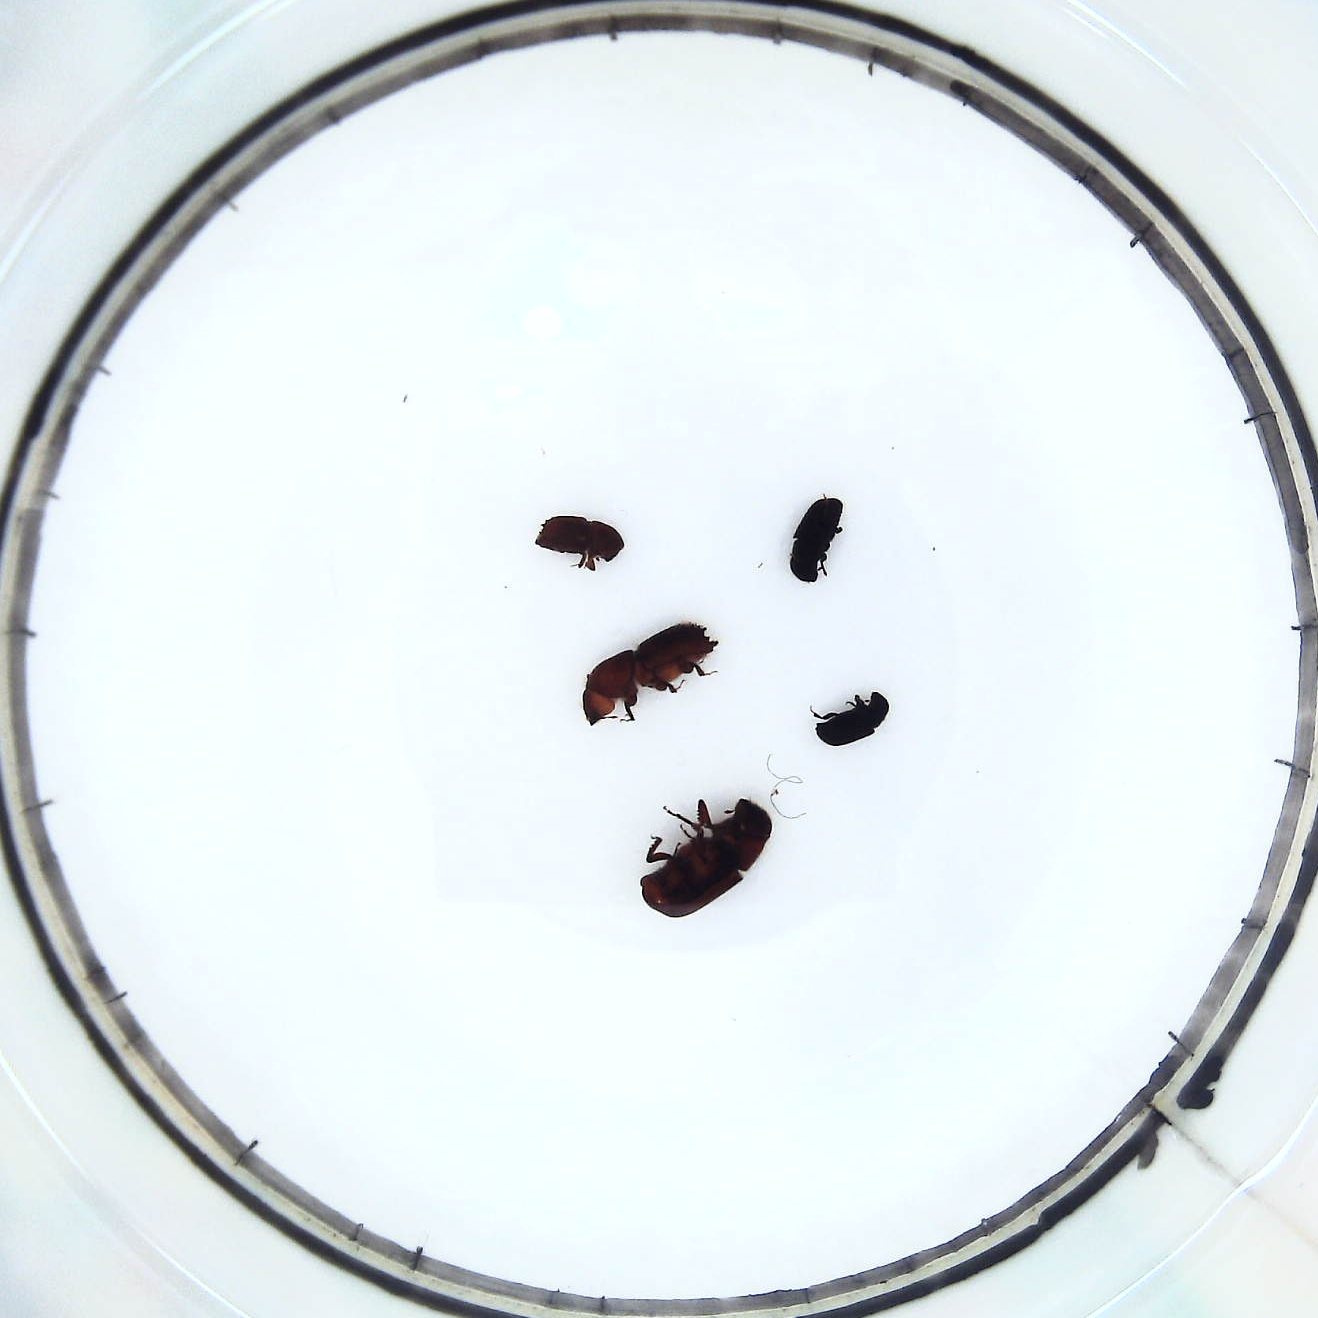Boerner: (578, 616, 719, 733)
Leconte: (634, 797, 785, 923)
armandi: (785, 492, 853, 591)
coleoptera: (809, 692, 892, 750)
linnaeus: (531, 511, 629, 577)
